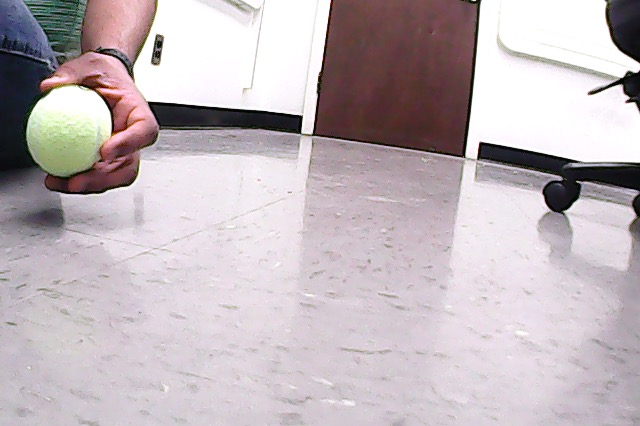ball: (27, 86, 113, 178)
